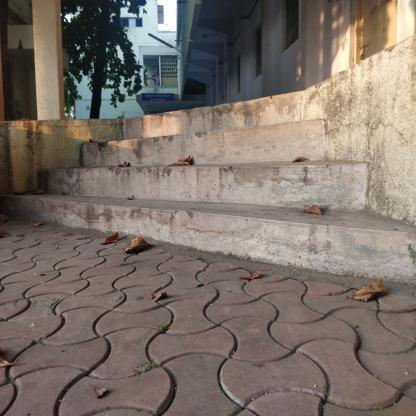stairs: (125, 144, 346, 286)
